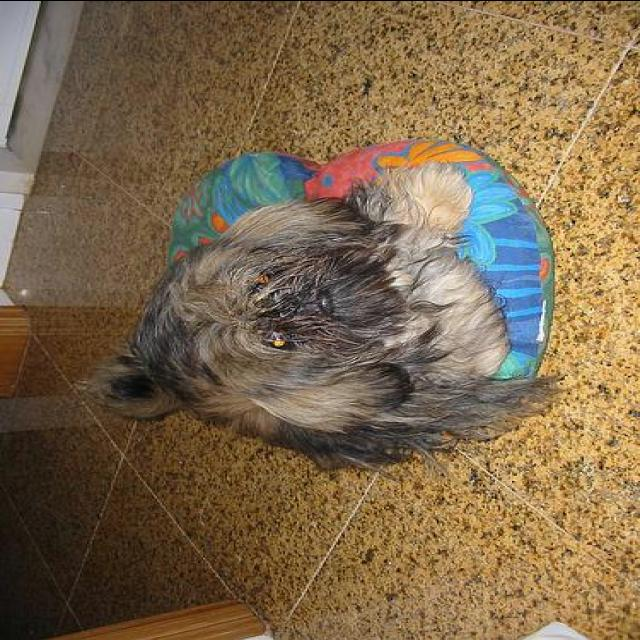shih_tzu: (79, 163, 562, 471)
